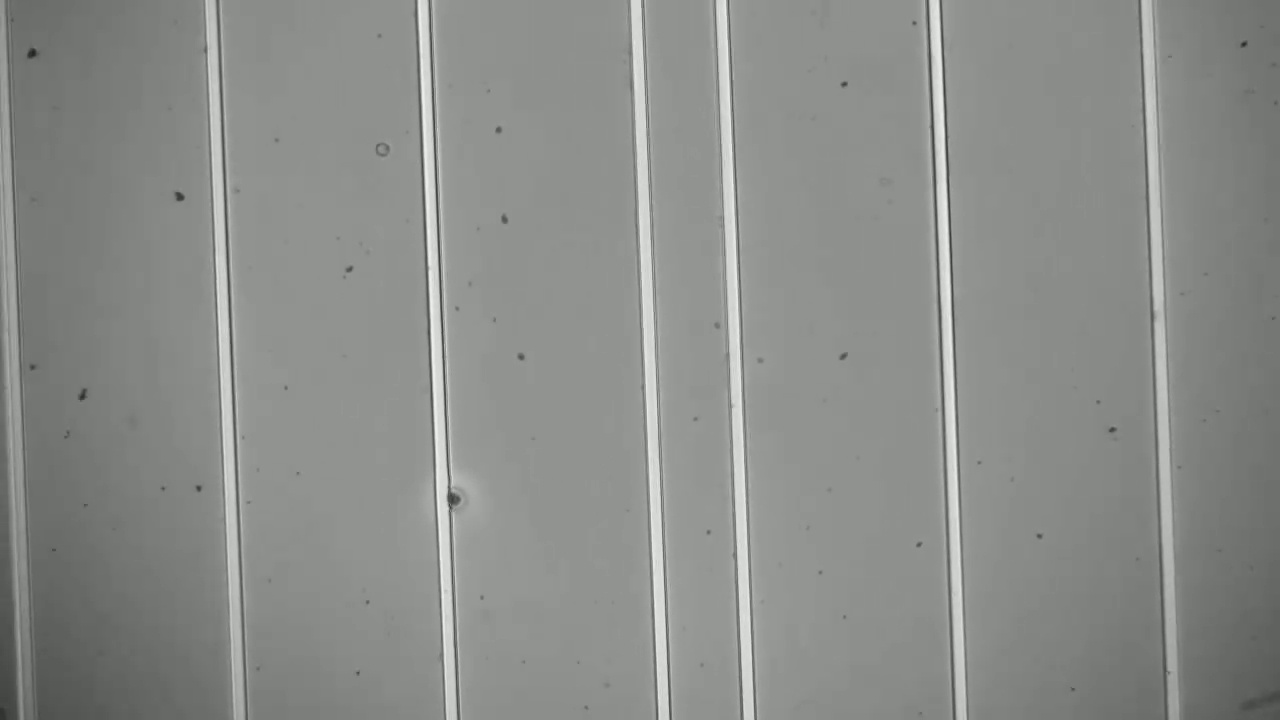stains_enbedded: (426, 479, 470, 526)
